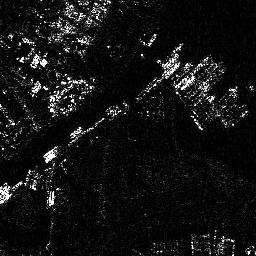ship: (156, 42, 185, 70)
